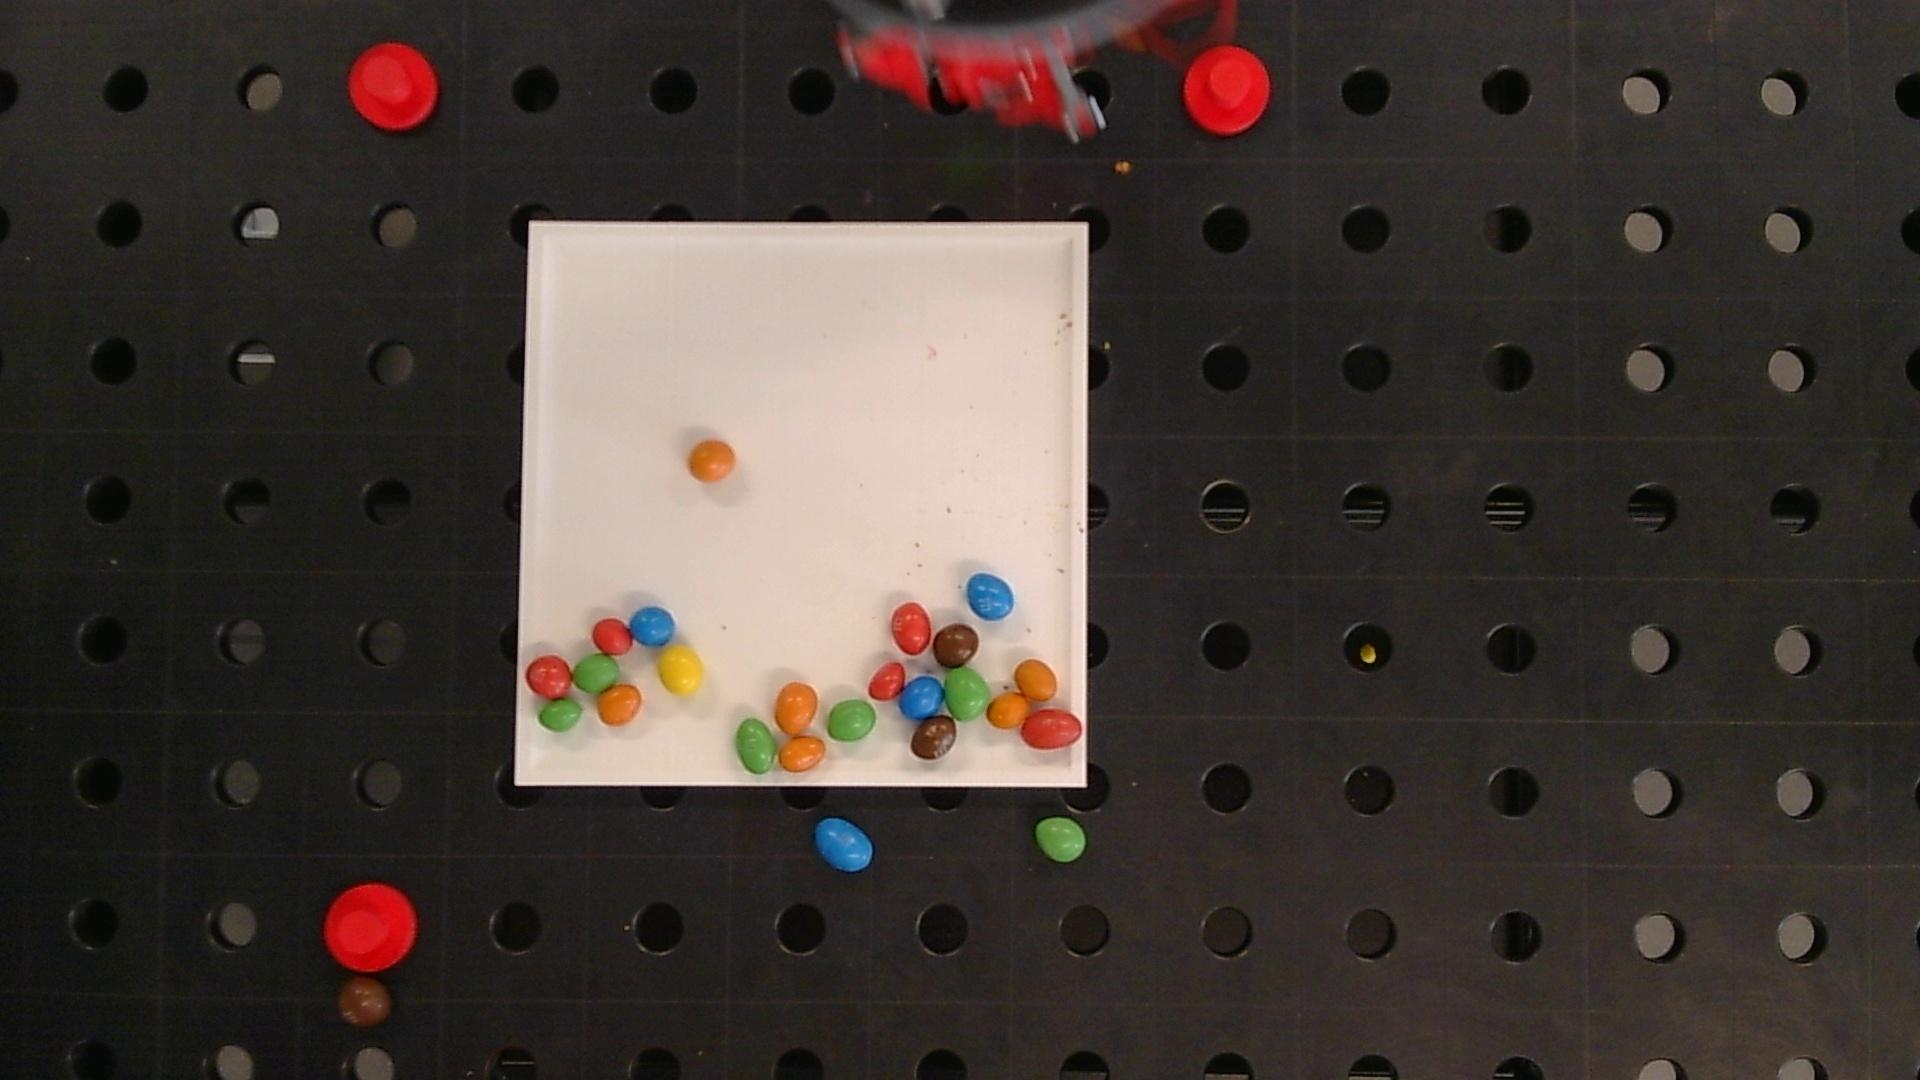blue: (814, 818, 874, 873), (967, 572, 1014, 618), (899, 676, 943, 720), (629, 607, 675, 646)
brown: (934, 622, 980, 667), (910, 716, 957, 760)
green: (1035, 818, 1087, 862), (944, 669, 989, 720), (736, 717, 777, 773), (827, 699, 877, 741), (574, 654, 618, 692), (538, 699, 583, 732)
orange: (775, 682, 819, 735), (688, 439, 736, 481), (597, 683, 642, 725), (1014, 659, 1058, 702), (779, 736, 824, 771), (988, 692, 1029, 728)
red: (1021, 711, 1083, 748), (525, 654, 572, 698), (891, 601, 930, 654), (592, 617, 632, 654), (868, 662, 905, 699)
yellow: (658, 646, 704, 695)
